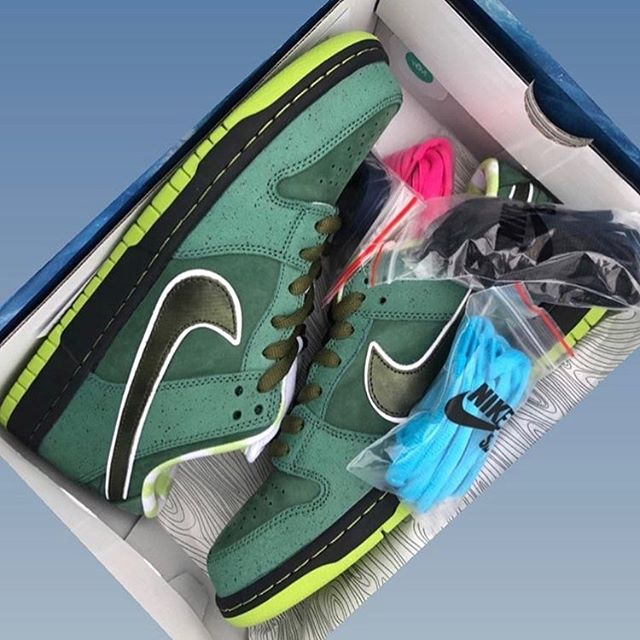Nike SB Dunk Green Lobster: (185, 148, 614, 636), (1, 14, 409, 521)
